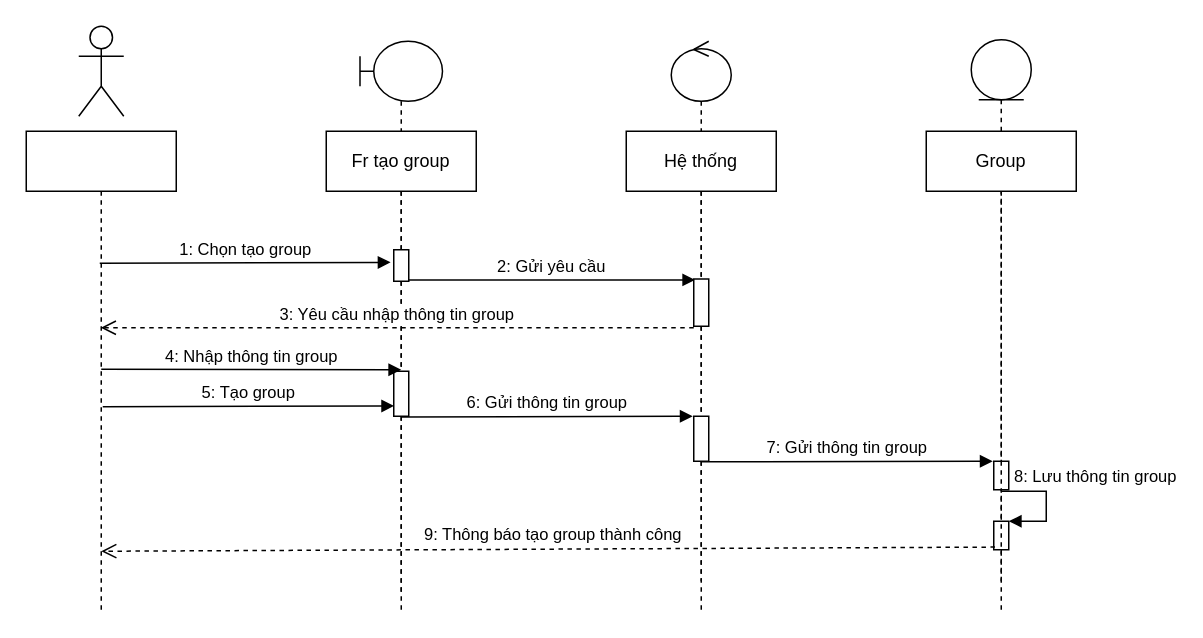
This 1203x638 diagram has some shape labels left out. Each missing label, with the centre of its shape:
"Actor" belongs at [100,70].
"Người dùng" belongs at [100,370].
